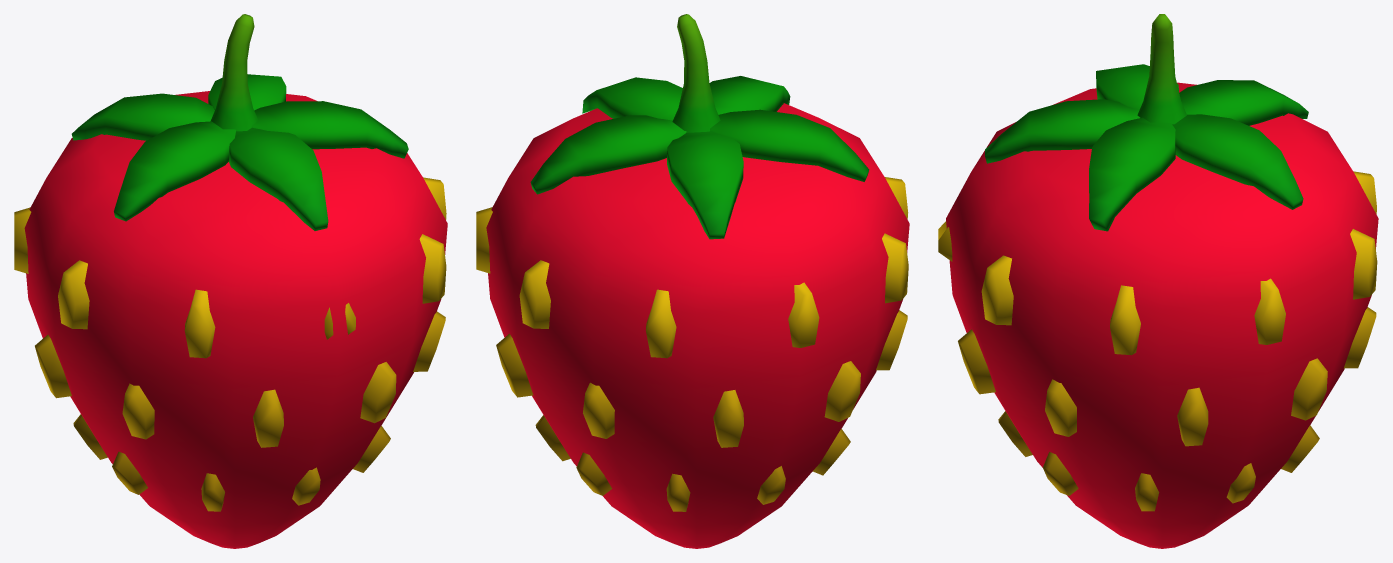
Rendered from Starberry.fbx.
3 views of the same model, side by side, from view 1: azimuth 30°, elevation 25°; view 2: azimuth 150°, elevation 25°; view 3: azimuth 270°, elevation 25° (orthographic).
Parts seen in each view (by area): view 1: Starberry; view 2: Starberry; view 3: Starberry.
Boxes of the visible parts, x1=… form: Starberry: x1=14, y1=14, x2=447, y2=548; Starberry: x1=476, y1=14, x2=909, y2=548; Starberry: x1=938, y1=14, x2=1378, y2=548.
Size of the model in its own units: 1.97 by 2.61 by 1.95.
Materials: 1 (1 with a texture image).
